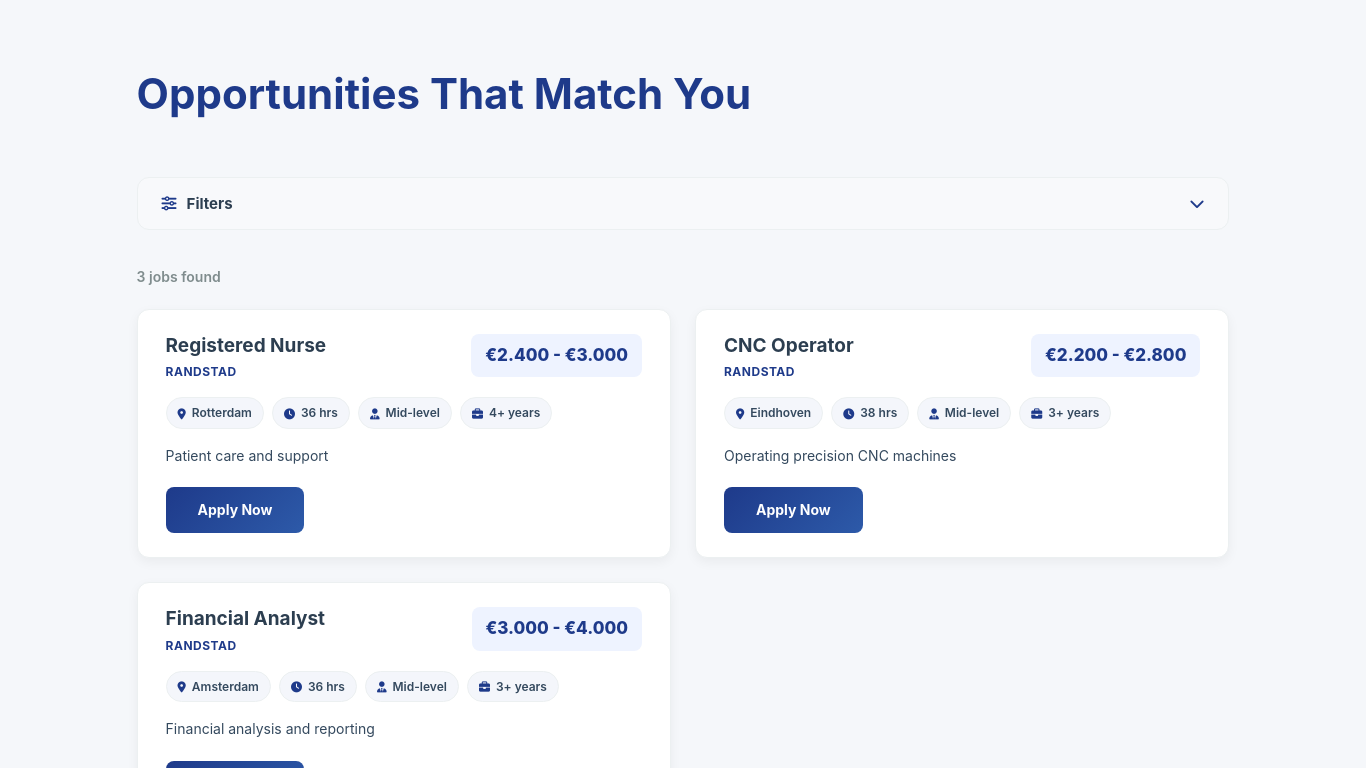
Test case: Jobs page › combines filters and shows a message when nothing matches
expect the heading "Registered Nurse" is shown: met, box [166, 334, 326, 358]
Click the button "Filters" at {"x": 210, "y": 204}, box [137, 177, 1229, 230]
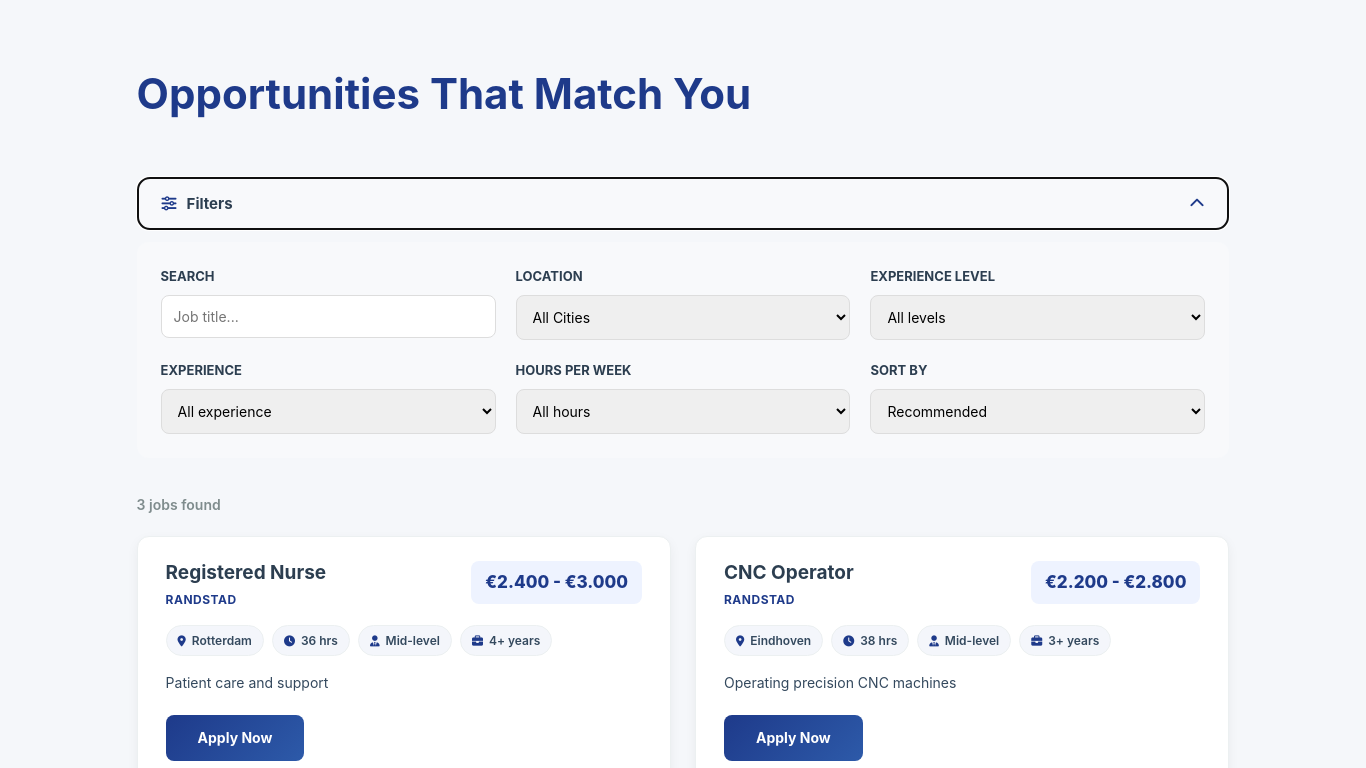
Type "nurse" into the field labelled "Search" at {"x": 328, "y": 316}, box [161, 295, 496, 338]
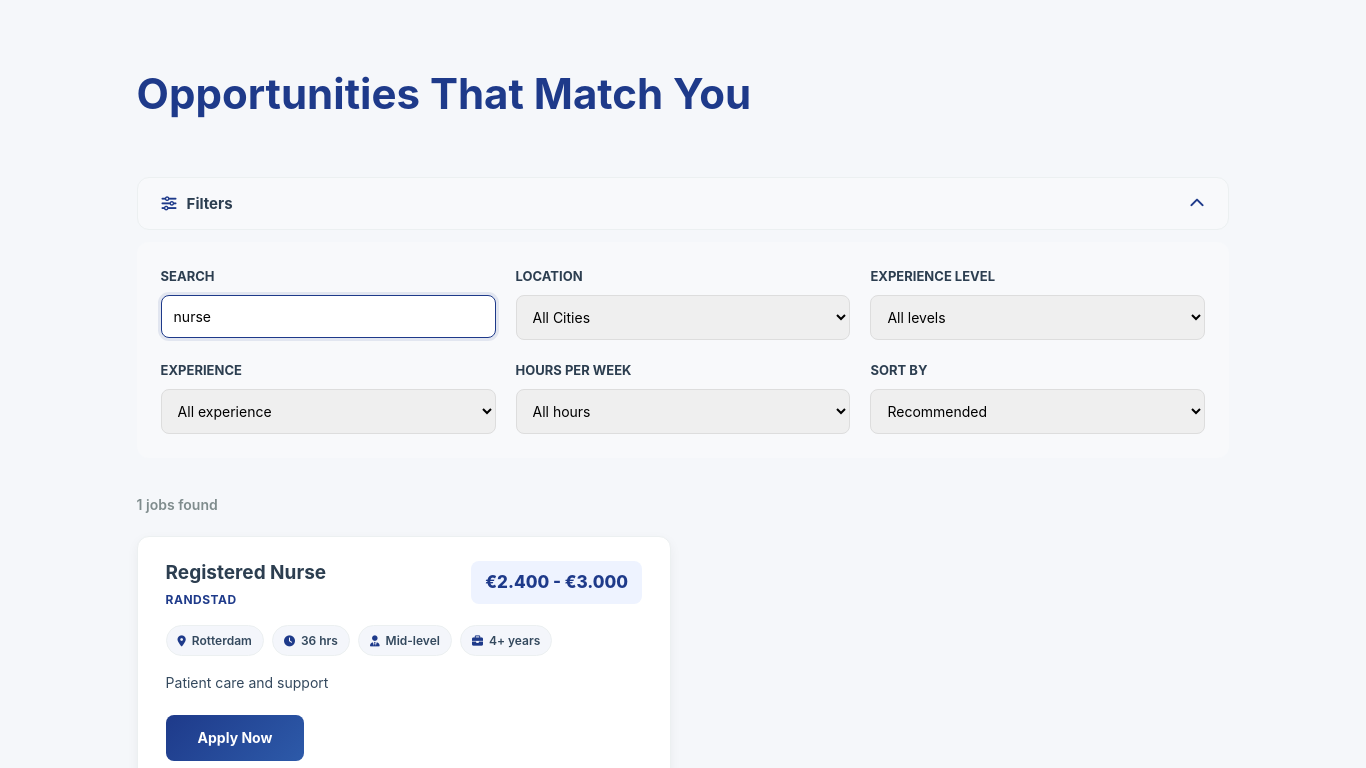
Select "Amsterdam" in the dropdown labelled "Location" at {"x": 683, "y": 318}, box [516, 295, 850, 340]
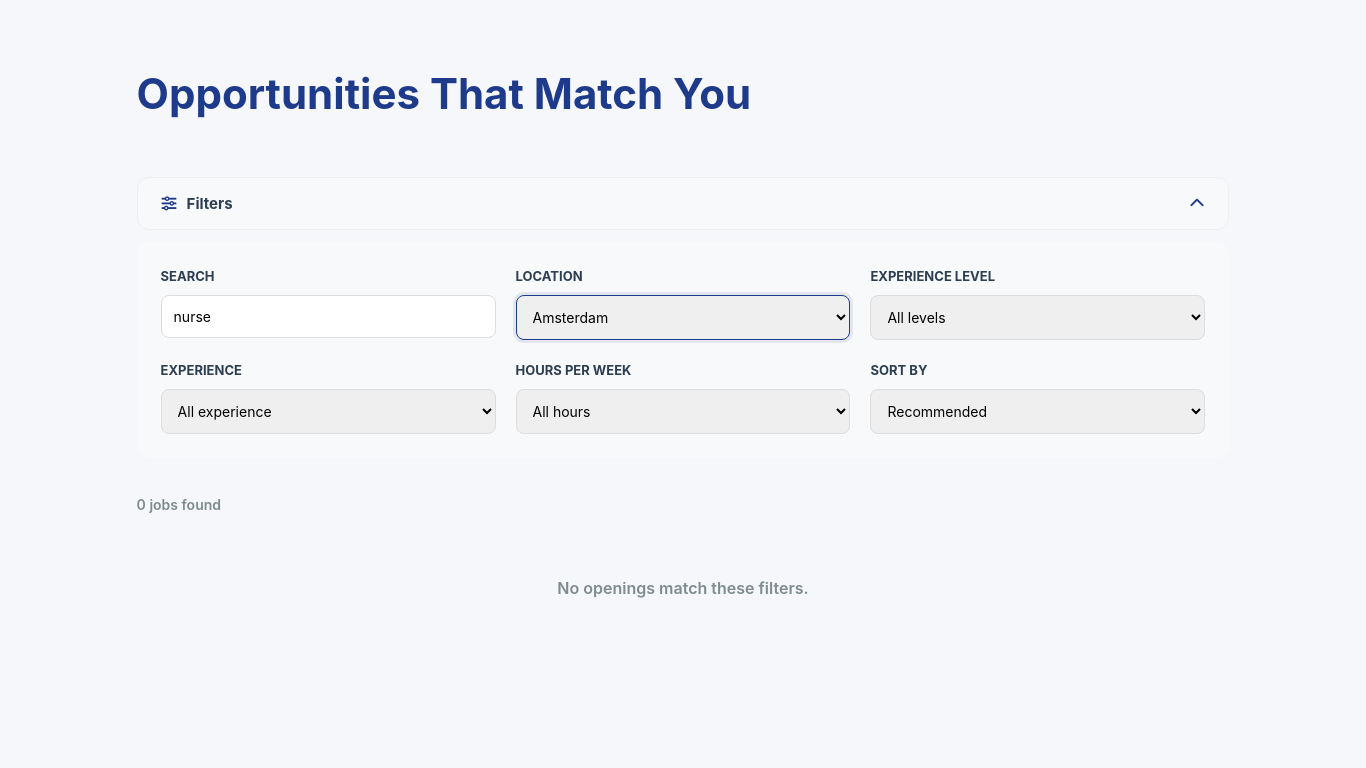
expect the text "No openings match these filters." is shown: met, box [557, 578, 809, 598]
expect the link "Apply Now" is gone: met
